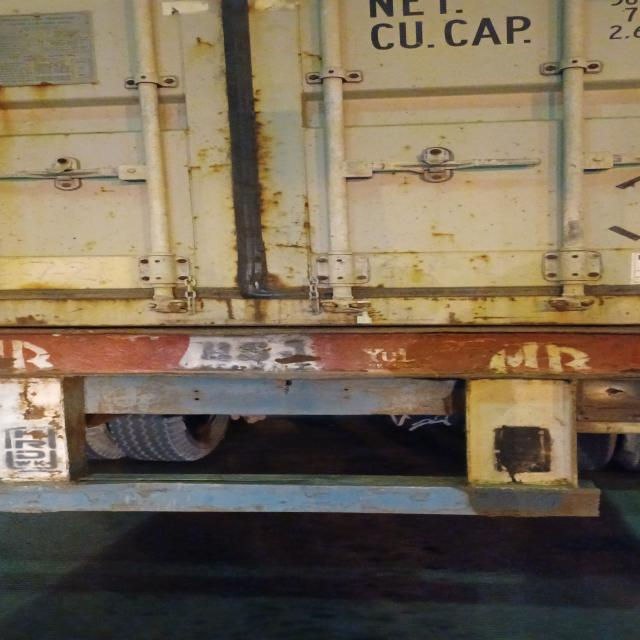seal: (345, 299, 381, 325)
